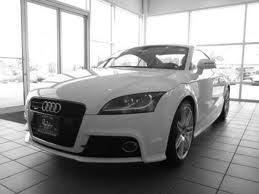car: (24, 43, 233, 170)
